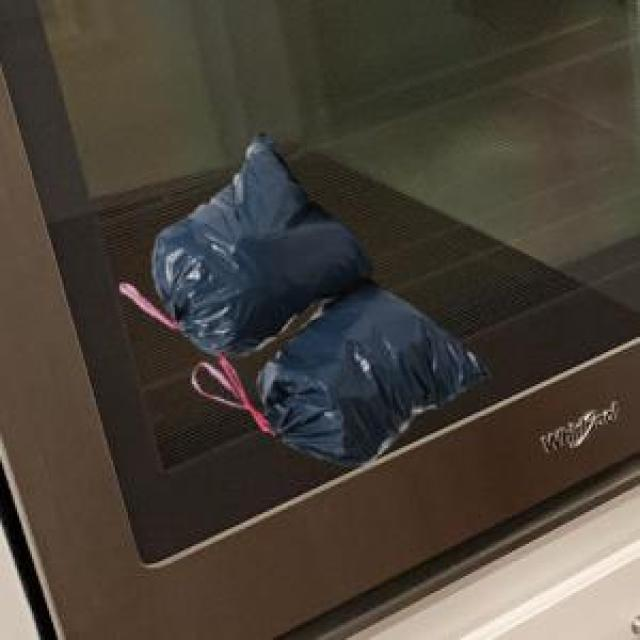waste: (155, 138, 488, 464)
